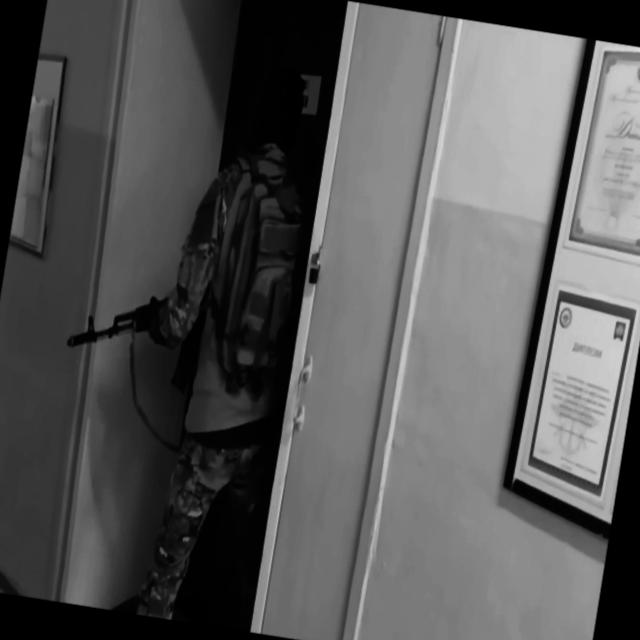gun: (60, 272, 209, 397)
person with a gun: (25, 34, 332, 632)
